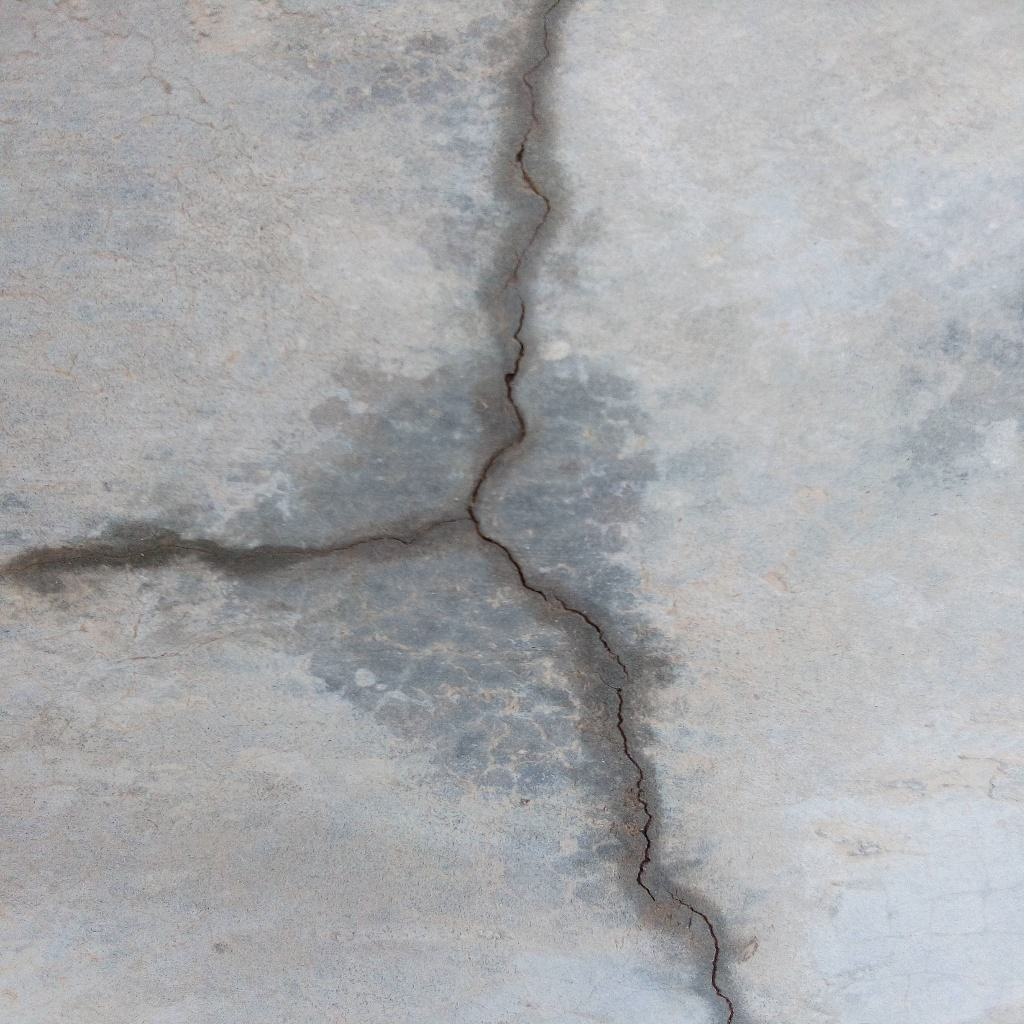Crack: (471, 515, 731, 1024), (471, 1, 550, 516), (1, 515, 471, 570)
